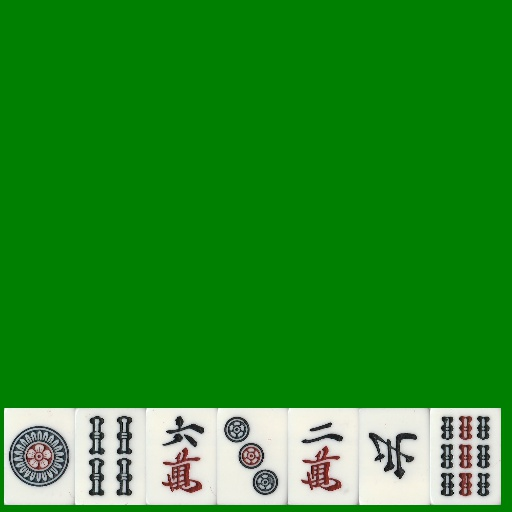1p: (4, 408, 75, 505)
2m: (288, 408, 359, 505)
3p: (217, 408, 288, 505)
4s: (75, 408, 146, 505)
6m: (146, 408, 217, 505)
9s: (430, 408, 501, 505)
north: (359, 408, 430, 505)
